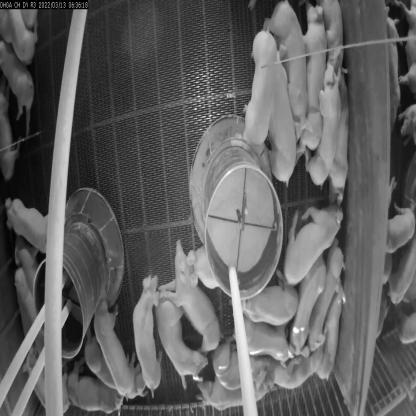Pig: (260, 0, 316, 146), (162, 240, 223, 362), (273, 188, 345, 286), (261, 46, 306, 195), (292, 5, 334, 159), (146, 287, 206, 392), (240, 24, 279, 154), (90, 301, 141, 397), (0, 33, 43, 133), (226, 312, 301, 366), (320, 73, 350, 204), (308, 66, 342, 181), (132, 274, 163, 399), (196, 370, 274, 416), (67, 354, 124, 416), (318, 276, 347, 394), (6, 192, 61, 254), (269, 339, 328, 396), (236, 276, 302, 326), (185, 236, 225, 312), (316, 0, 355, 77), (290, 262, 318, 361), (12, 257, 42, 349), (314, 240, 338, 350), (26, 351, 66, 415), (214, 342, 265, 392), (377, 199, 416, 255), (0, 96, 22, 186)
